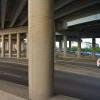Bridge: (5, 2, 94, 51)
